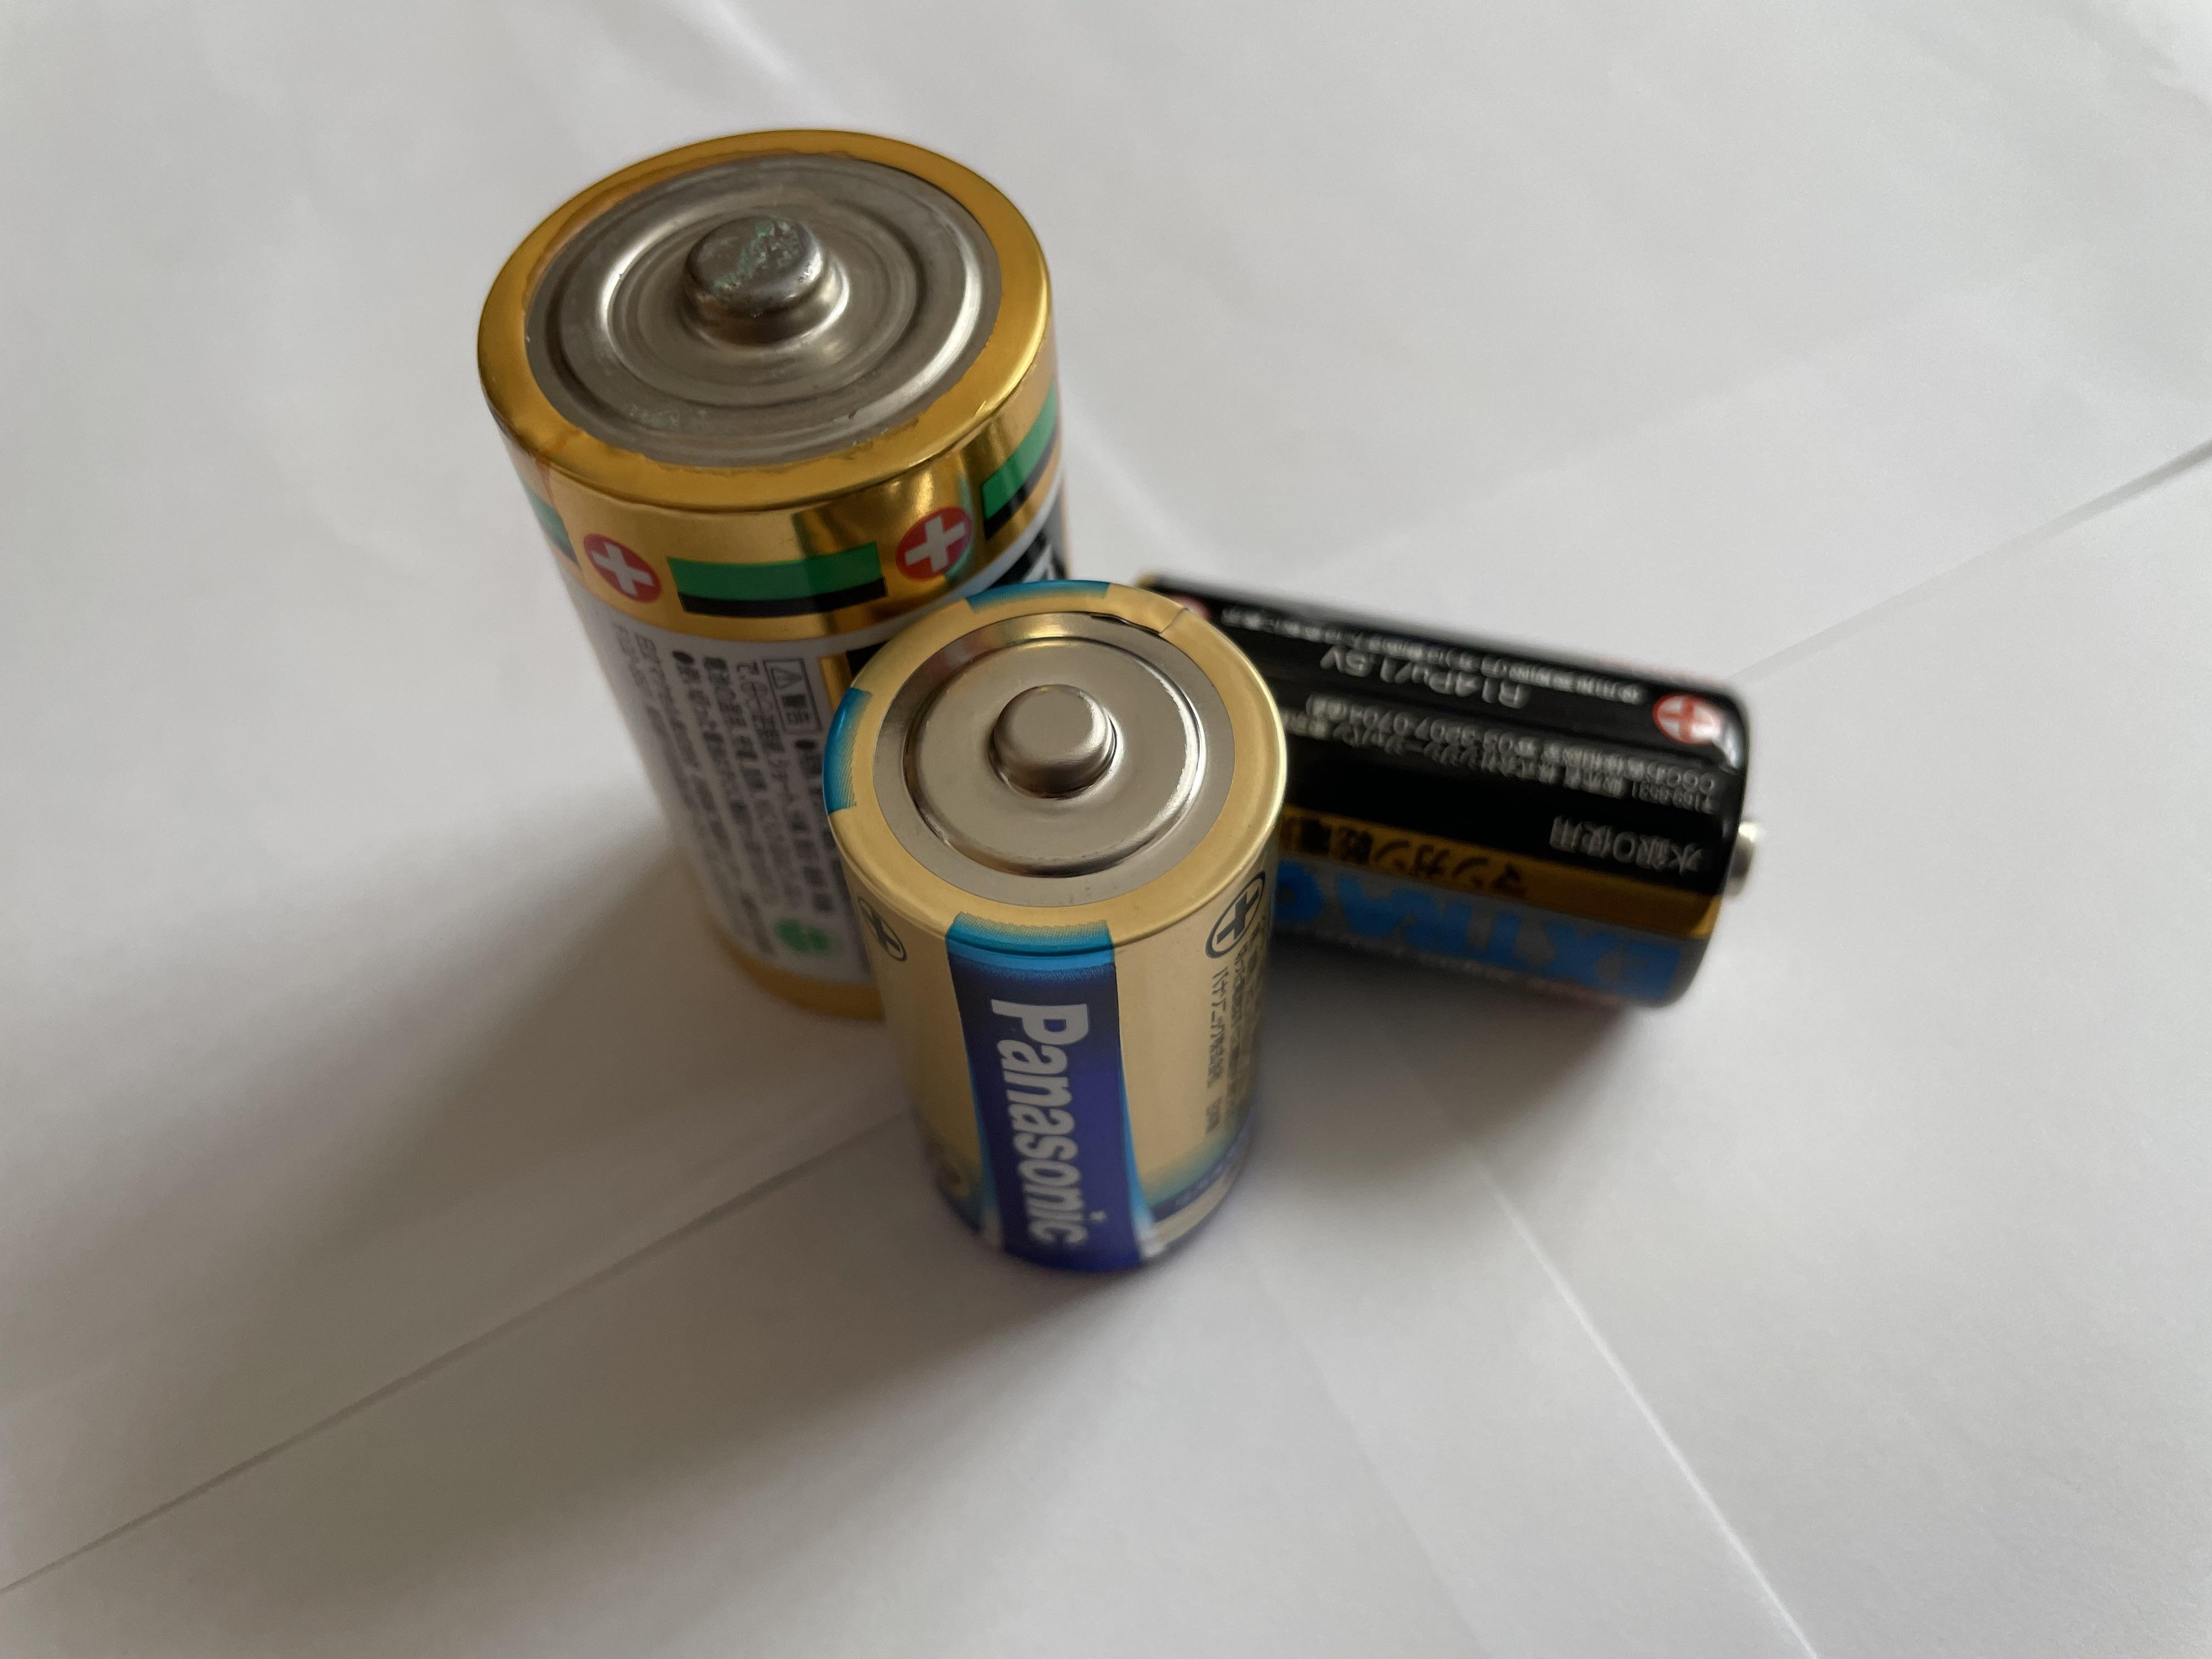Battery: (826, 580, 1294, 1279)
